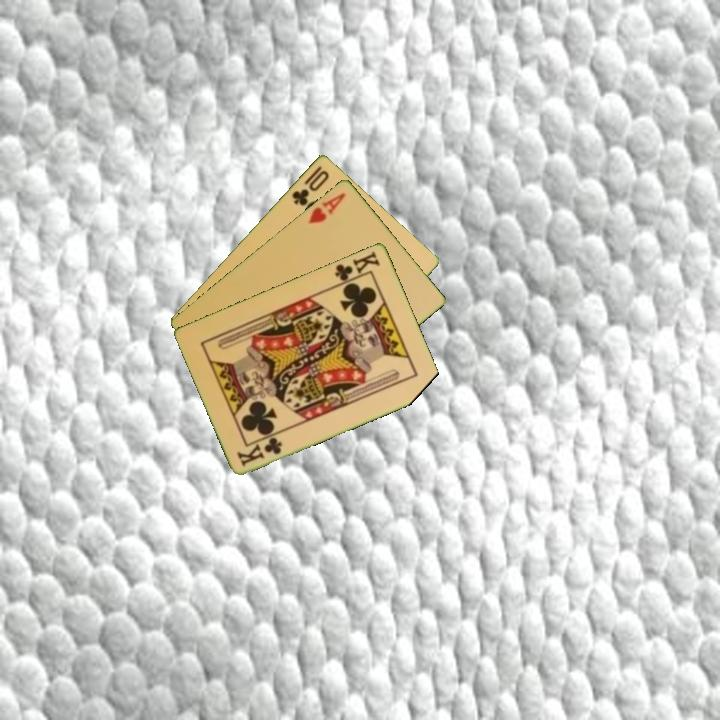10c: (288, 162, 332, 209)
Ah: (305, 188, 348, 226)
Kc: (331, 247, 383, 288), (233, 433, 285, 469)
